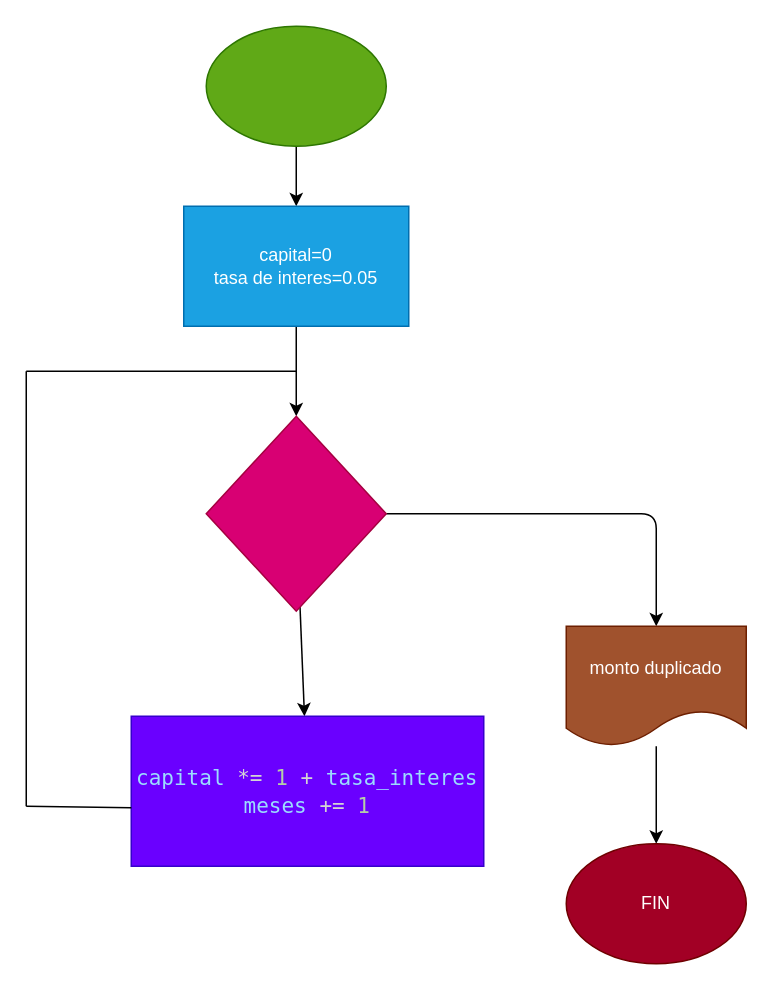
The diagram is 773 pixels wide and 990 high, and some of its shapes have lost their labels. Here are the shapes that lost their labels. From the top down, the box of each, then its label:
(205, 25, 386, 146): INICIO
(205, 415, 386, 611): capital < monto duplicado
